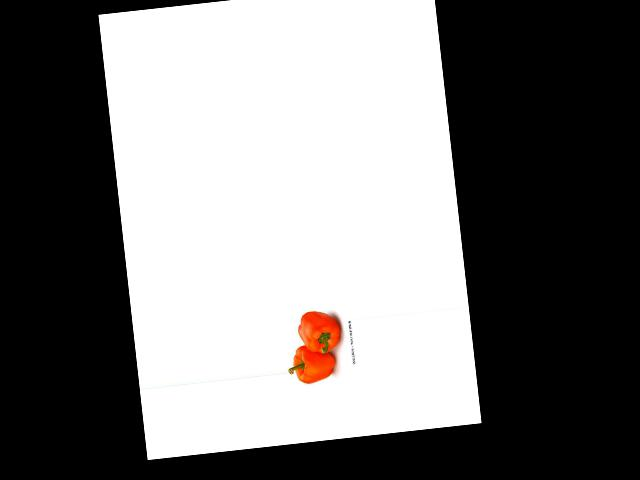bell_pepper: (294, 306, 347, 357)
